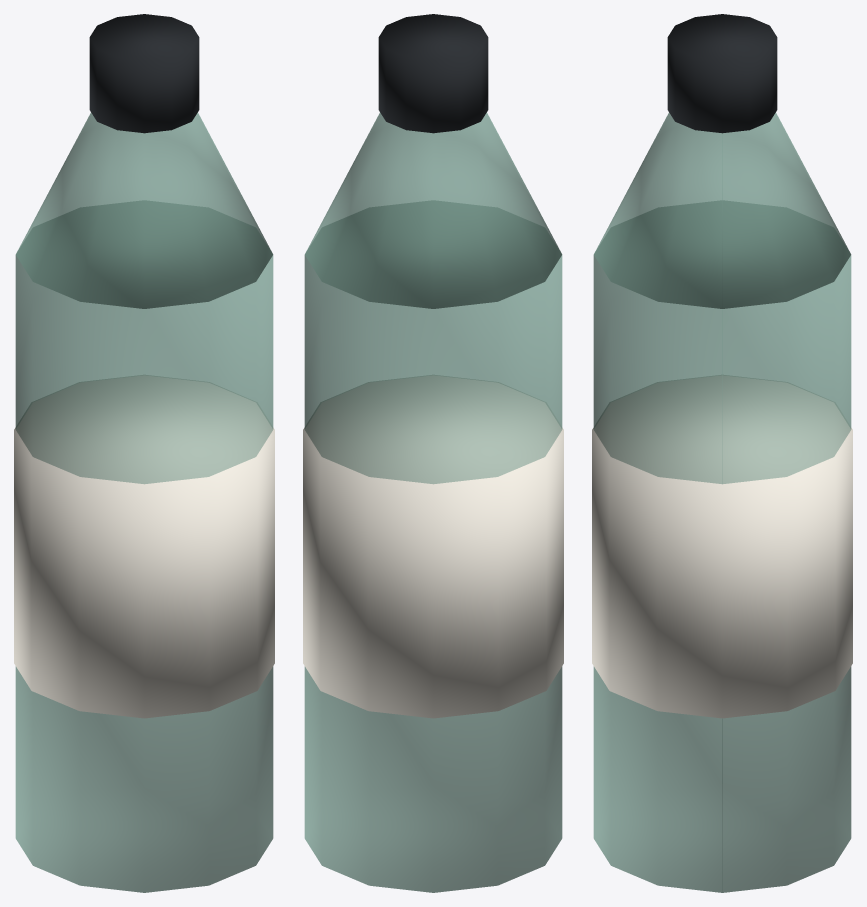
The model's file is product-bottle.glb.
3 views of the same model, side by side, from view 1: azimuth 30°, elevation 25°; view 2: azimuth 150°, elevation 25°; view 3: azimuth 270°, elevation 25° (orthographic).
Visible parts, largest first — view 1: Body, Label, Shoulder, Cap; view 2: Body, Label, Shoulder, Cap; view 3: Body, Label, Shoulder, Cap.
Part boxes in pixels (x1,y1,x2,y2): Body: (15, 201, 273, 892); Label: (14, 375, 274, 718); Shoulder: (15, 112, 273, 308); Cap: (89, 14, 199, 133); Body: (304, 201, 562, 892); Label: (303, 375, 563, 718); Shoulder: (304, 112, 562, 308); Cap: (378, 14, 488, 133); Body: (593, 201, 851, 892); Label: (592, 375, 852, 718); Shoulder: (593, 112, 851, 308); Cap: (667, 14, 777, 133).
Bounding box in the file's own units: 0.081 × 0.2745 × 0.081.
